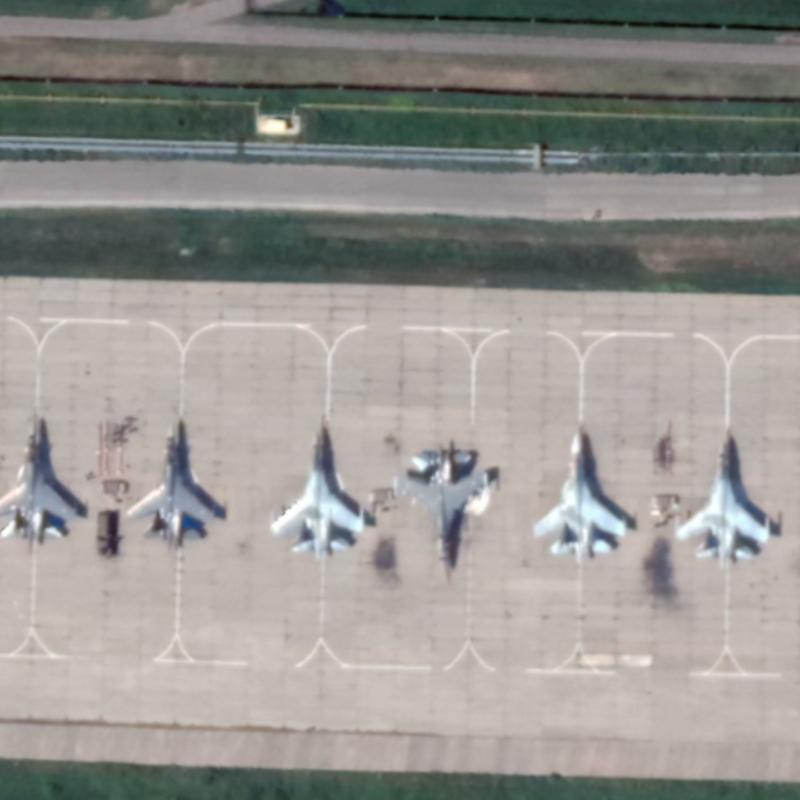A1: (263, 410, 367, 564), (392, 439, 497, 586), (670, 423, 773, 572), (527, 417, 629, 565), (120, 418, 219, 553), (0, 415, 79, 547)
